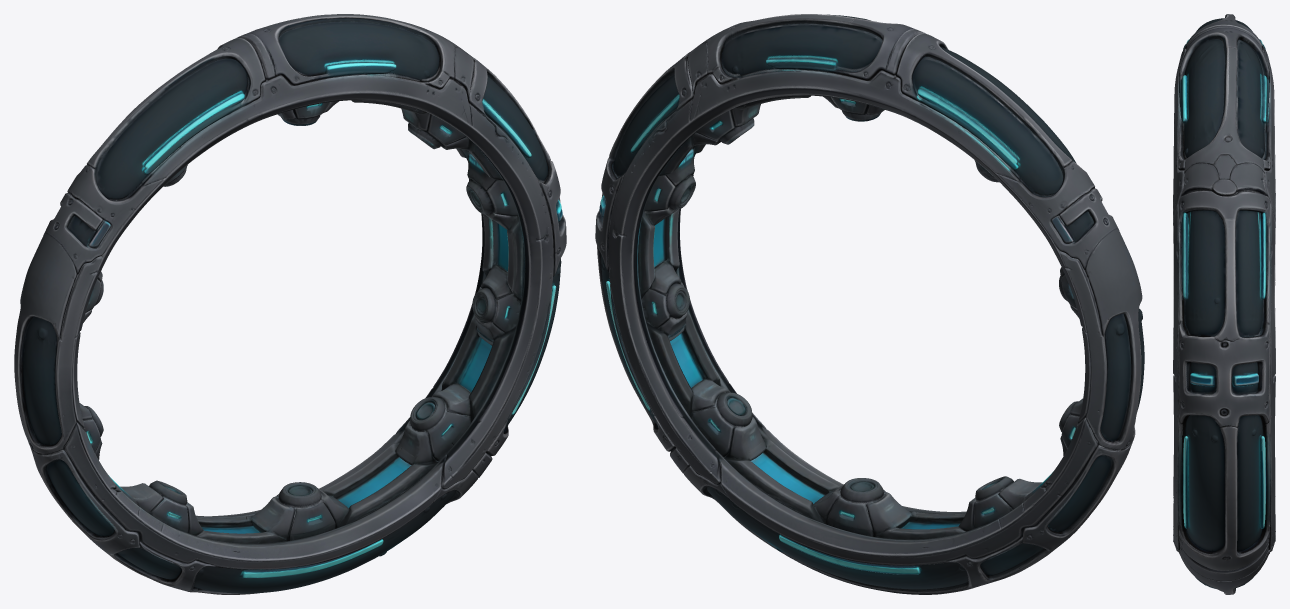
File: sign-a.glb
3 renders of one model, left to right at view 1: azimuth 30°, elevation 25°; view 2: azimuth 150°, elevation 25°; view 3: azimuth 270°, elevation 25°, orthographic. The views are drawn at different scales.
Visible parts, largest first — view 1: tripo_node_d0e24c21-0994-4d52-8632-46a7a9c47c9f; view 2: tripo_node_d0e24c21-0994-4d52-8632-46a7a9c47c9f; view 3: tripo_node_d0e24c21-0994-4d52-8632-46a7a9c47c9f.
Boxes of the visible parts, x1,y1,x2,y2 form: tripo_node_d0e24c21-0994-4d52-8632-46a7a9c47c9f: [14, 14, 566, 594]; tripo_node_d0e24c21-0994-4d52-8632-46a7a9c47c9f: [595, 14, 1144, 594]; tripo_node_d0e24c21-0994-4d52-8632-46a7a9c47c9f: [1173, 14, 1275, 594].
Bounding box in the file's own units: 0.9788 × 0.9761 × 0.1726.
1 material, 1 textured.
